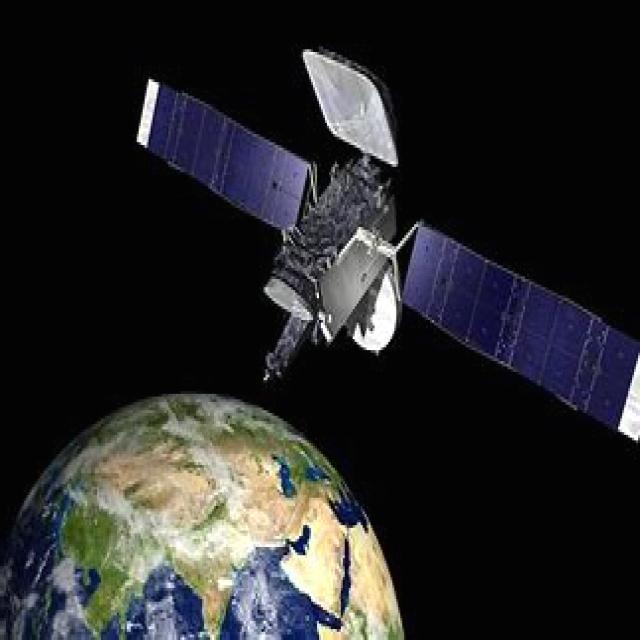satellite: (115, 38, 640, 436)
